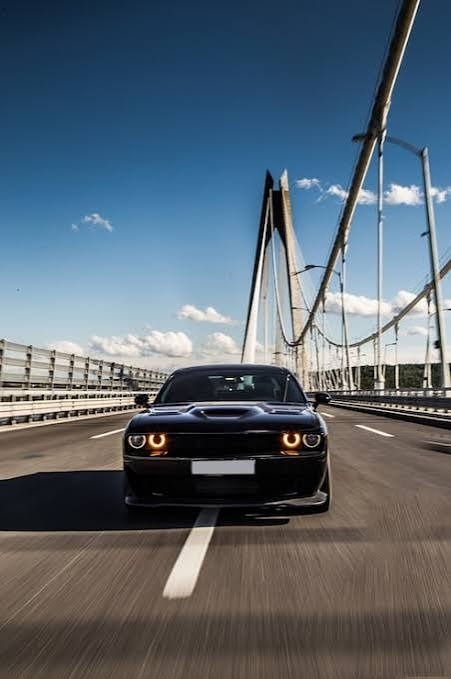car: (116, 356, 328, 511)
